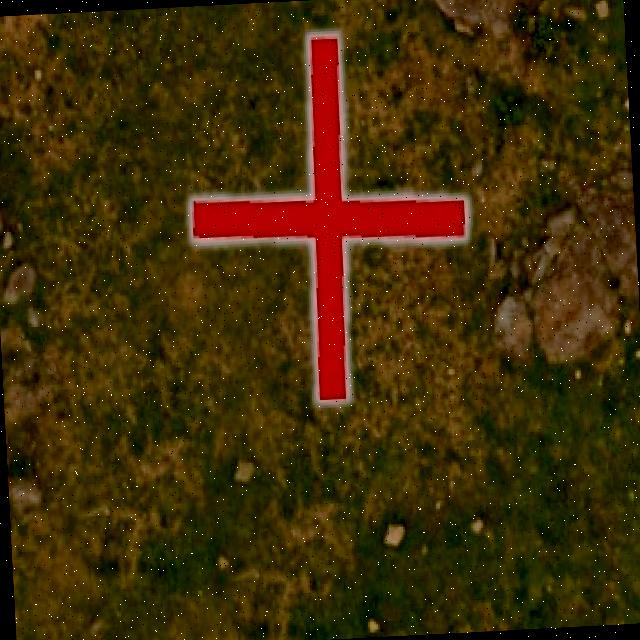x_marker: (182, 29, 475, 405)
